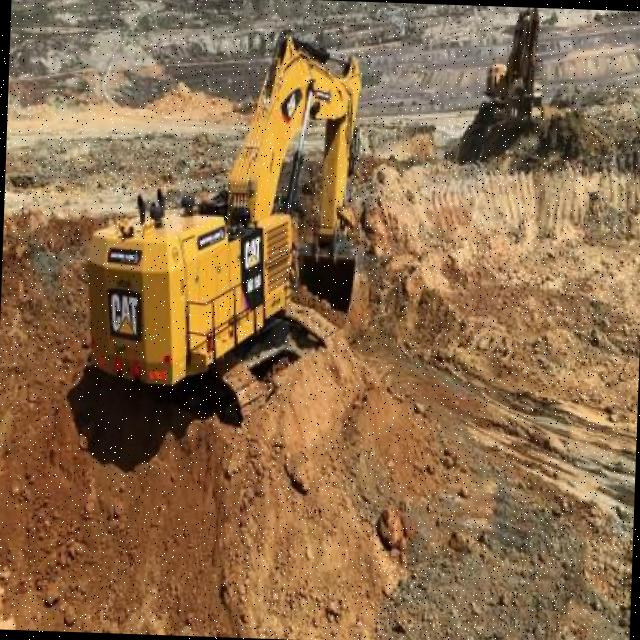Excavator: (85, 27, 362, 424), (486, 6, 546, 122)
